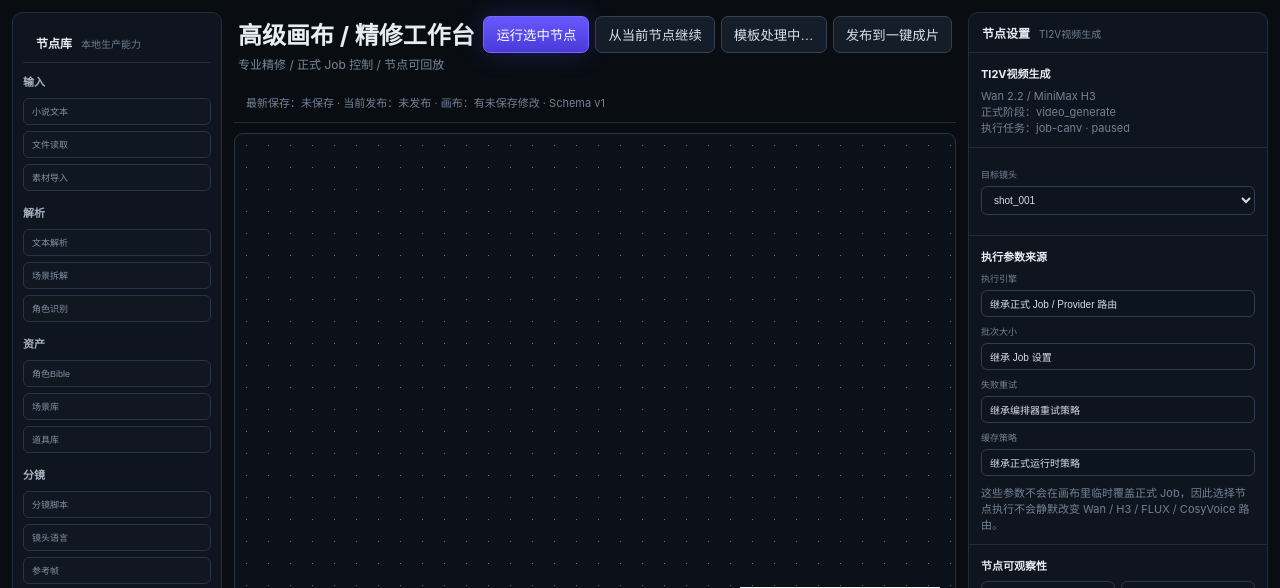
Test: AdvancedCanvasWorkspace v0.9 formal execution contract › submits the selected video node as a formal rerun_node command
This screenshot has width=1280, height=588.
Expected: the dropdown named "目标镜头" shows "shot_001", [981,186,1255,215]
Click the button "运行选中节点": {"x": 536, "y": 34} [484,16,590,53]
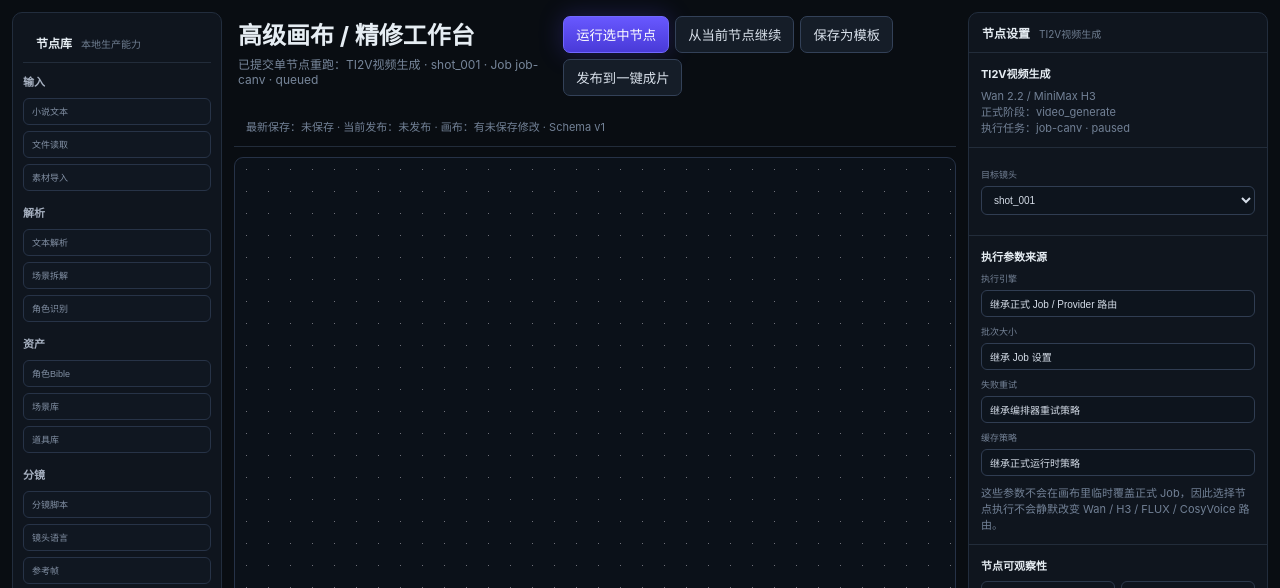
Expected: the message shows "已提交单节点重跑", [238,57,538,87]
